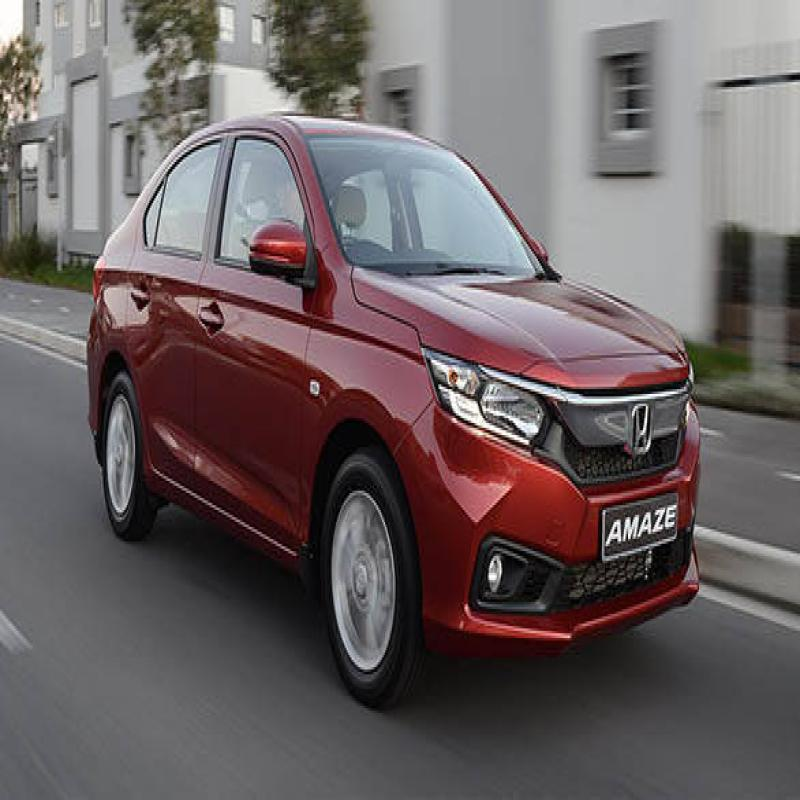car: (85, 109, 698, 706)
